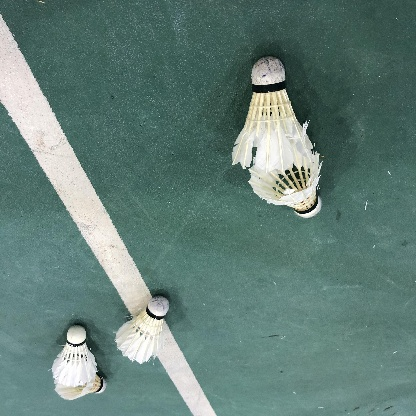ball_single: (232, 56, 314, 172), (248, 146, 321, 218), (116, 296, 169, 365), (52, 325, 97, 387), (54, 367, 107, 400)
